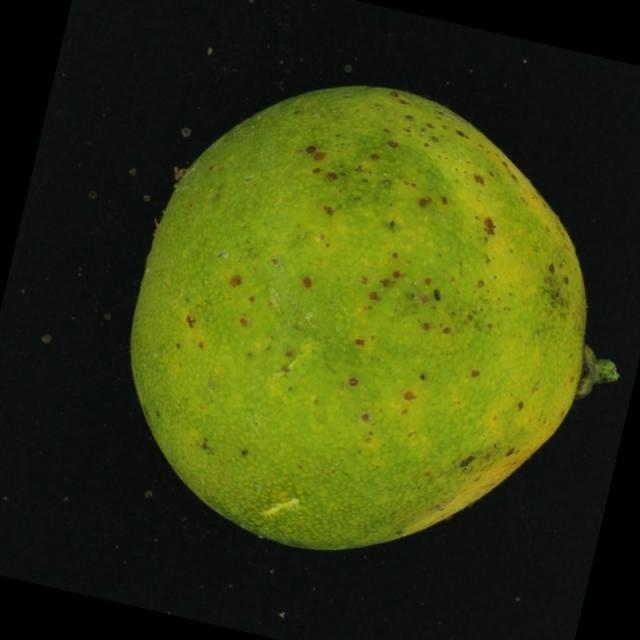grenning: (122, 70, 625, 570)
